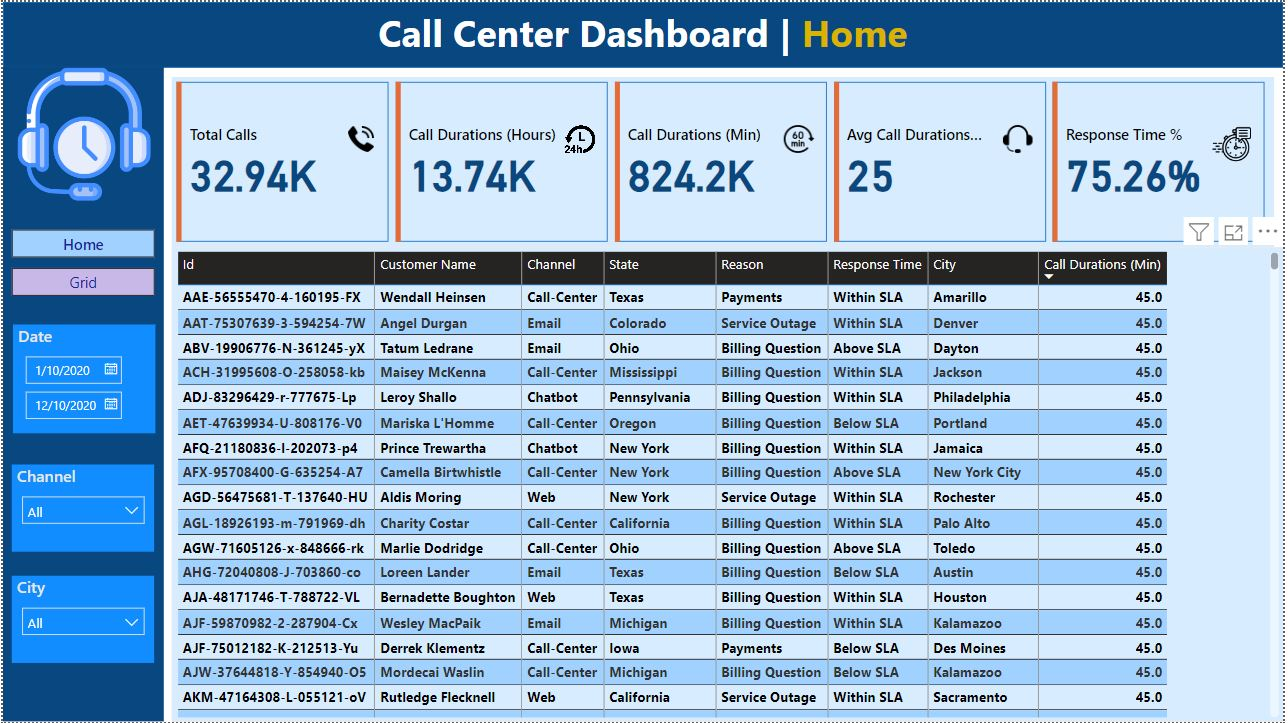

The page's visual inventory and layout, read from the dashboard file:
{"tool":"powerbi","page":{"name":"Grid","canvas":[1280,720],"ordinal":1},"visuals":[{"type":"shape","box":[0,0,1280.3,65.9],"z":0},{"type":"shape","box":[0,65.6,161.1,654.4],"z":1000},{"type":"cardVisual","fields":{"Data":["Call Center_Call Center.Total Calls","Call Center_Call Center.Call Durations (Hours)","Call Center_Call Center.Call Durations (Min)","Call Center_Call Center.Avg Call Durations (Min)","Call Center_Call Center.Response Time %"]},"box":[168.9,74.4,1102.2,170],"z":2000},{"type":"textbox","box":[0,0,1279.8,65.7],"z":3000},{"type":"slicer","title":"Date","fields":{"Values":["Call Center_Call Center.Call Timestamp"]},"box":[10,322.5,142.5,108.8],"z":10000},{"type":"slicer","title":"Channel","fields":{"Values":["Call Center_Call Center.Channel"]},"box":[8.8,462.5,142.5,87.5],"z":11000},{"type":"slicer","title":"City","fields":{"Values":["Call Center_Call Center.City"]},"box":[8.8,573.8,142.5,87.5],"z":12000},{"type":"image","box":[10,56.2,142.5,151.2],"z":13000},{"type":"tableEx","fields":{"Values":["Call Center_Call Center.Id","Call Center_Call Center.Customer Name","Call Center_Call Center.Channel","Call Center_Call Center.State","Call Center_Call Center.Reason","Call Center_Call Center.Response Time","Call Center_Call Center.City","Call Center_Call Center.Call Durations (Min)"]},"box":[168.9,244.4,1112,475.6],"z":13001},{"type":"pageNavigator","box":[8.8,227.5,143.8,66.2],"z":13002}]}

Visuals, with their boxes on the page's 1280x720 design canvas (x1, y1, x2, y2). These are canvas units, not pixel positions in the 1288x723 screenshot, which may show the page scaled, cropped or inside an application window:
shape: BBox(0, 0, 1280, 66)
shape: BBox(0, 66, 161, 720)
cardVisual - Call Center_Call Center.Total Calls x Call Center_Call Center.Call Durations (Hours): BBox(169, 74, 1271, 244)
textbox: BBox(0, 0, 1280, 66)
"Date" slicer: BBox(10, 322, 152, 431)
"Channel" slicer: BBox(9, 462, 151, 550)
"City" slicer: BBox(9, 574, 151, 661)
image: BBox(10, 56, 152, 207)
tableEx - Call Center_Call Center.Id x Call Center_Call Center.Customer Name: BBox(169, 244, 1281, 720)
pageNavigator: BBox(9, 228, 153, 294)
